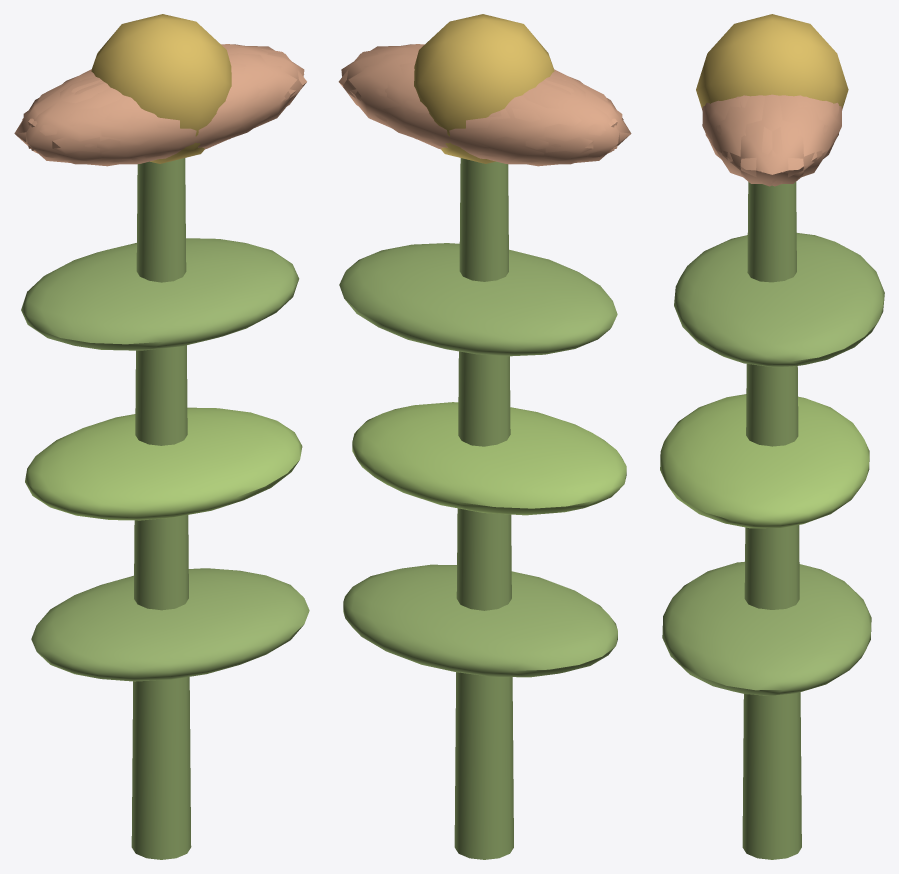
Rendered from arachis-duranensis.glb.
3 views of the same model, side by side, from view 1: azimuth 30°, elevation 25°; view 2: azimuth 150°, elevation 25°; view 3: azimuth 270°, elevation 25° (orthographic).
Parts seen in each view (by area): view 1: stem, leaf1, leaf2, leaf0, center, petal6, petal2, petal1, petal5, petal7, petal0; view 2: stem, leaf2, leaf1, leaf0, center, petal3, petal7, petal8, petal4, petal2, petal0; view 3: stem, leaf2, leaf0, leaf1, center, petal0, petal4, petal5, petal1, petal8.
Boxes of the visible parts, left/top/right/bottom form: stem: left=131, top=158, right=191, bottom=859; leaf1: left=25, top=407, right=302, bottom=520; leaf2: left=21, top=238, right=299, bottom=350; leaf0: left=31, top=568, right=309, bottom=681; center: left=91, top=14, right=231, bottom=163; petal6: left=31, top=82, right=218, bottom=164; petal2: left=23, top=77, right=167, bottom=166; petal1: left=97, top=62, right=290, bottom=162; petal5: left=157, top=52, right=306, bottom=154; petal7: left=14, top=71, right=109, bottom=157; petal0: left=225, top=45, right=304, bottom=139; stem: left=454, top=158, right=513, bottom=859; leaf2: left=339, top=243, right=617, bottom=356; leaf1: left=352, top=402, right=626, bottom=515; leaf0: left=343, top=564, right=617, bottom=677; center: left=414, top=14, right=554, bottom=163; petal3: left=426, top=82, right=614, bottom=164; petal7: left=478, top=77, right=622, bottom=166; petal8: left=355, top=62, right=548, bottom=162; petal4: left=338, top=52, right=488, bottom=155; petal2: left=536, top=71, right=631, bottom=157; petal0: left=341, top=45, right=420, bottom=139; stem: left=742, top=182, right=801, bottom=859; leaf2: left=674, top=233, right=884, bottom=367; leaf0: left=662, top=561, right=871, bottom=695; leaf1: left=660, top=394, right=869, bottom=528; center: left=696, top=14, right=848, bottom=108; petal0: left=716, top=94, right=828, bottom=183; petal4: left=761, top=95, right=838, bottom=186; petal5: left=705, top=95, right=783, bottom=186; petal1: left=702, top=95, right=749, bottom=159; petal8: left=794, top=95, right=841, bottom=159.
Size of the model in its own units: 0.1541 by 0.4302 by 0.106.
